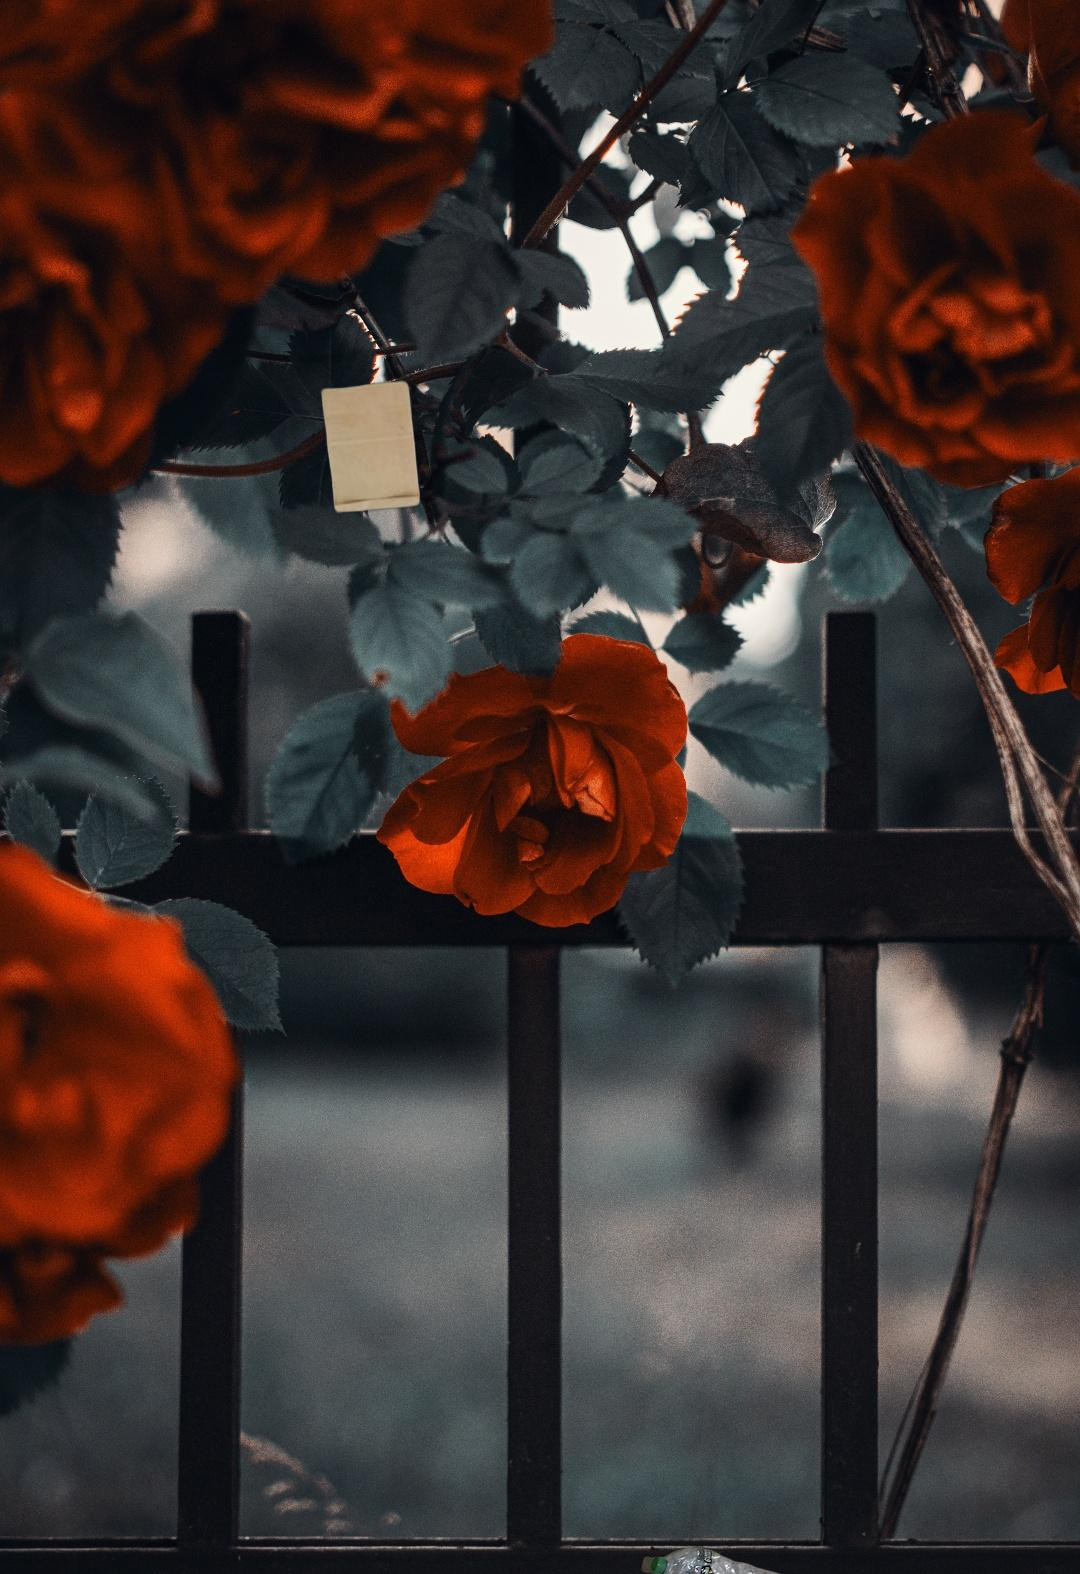paper-bag: (318, 377, 423, 517)
plastic-bottles: (637, 1544, 798, 1574)
